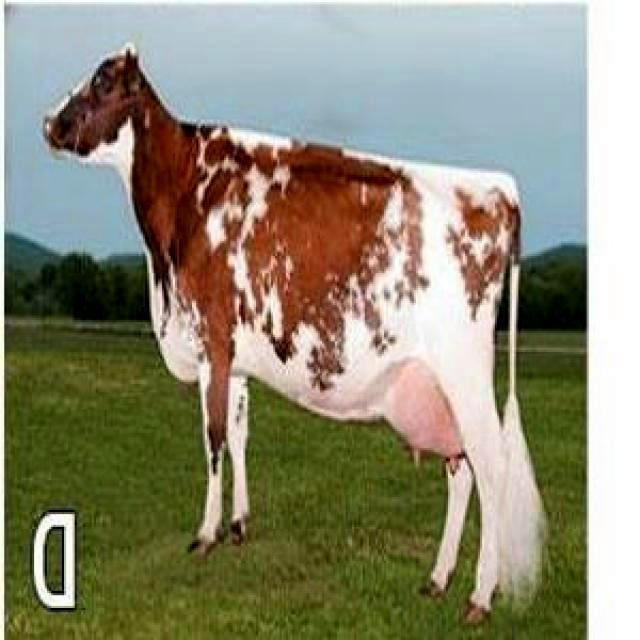COW: (45, 49, 544, 618)
